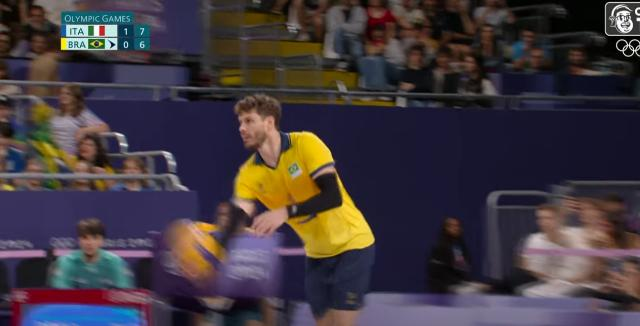Levantador: (232, 88, 376, 326)
bola: (160, 217, 223, 281)
